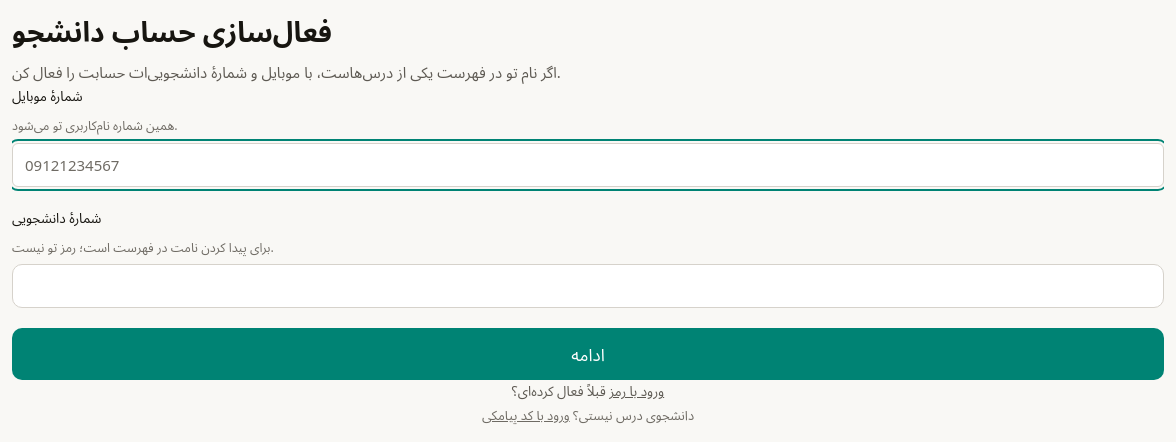
Test: فعال‌سازی حساب دانشجو › بدون ایمیل در فهرست، دکمهٔ تأیید غیرفعال است و به استاد ارجاع می‌دهد
This screenshot has width=1176, height=442.
Type "۰۹۱۲۱۲۳۴۵۶۷" into the field labelled "شمارهٔ موبایل" at (588, 165), box [12, 143, 1164, 187]
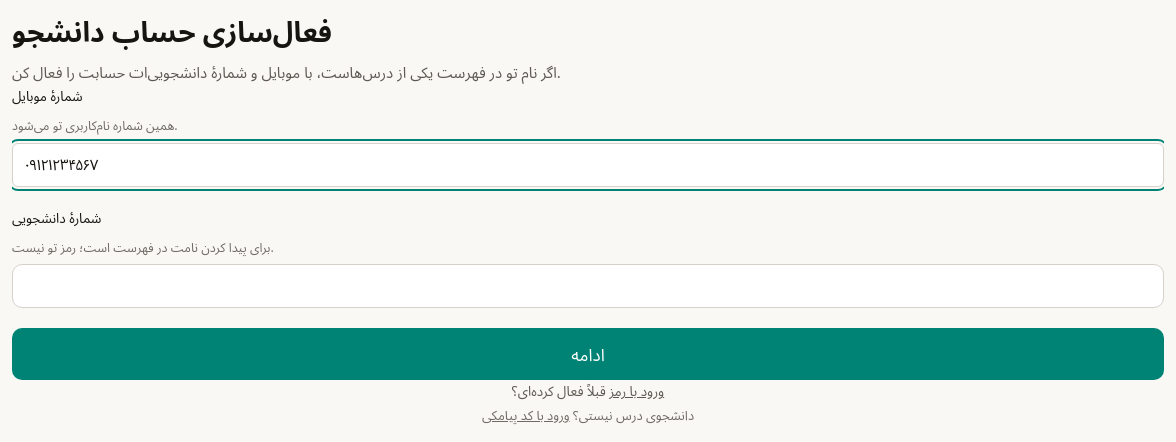
Type "۴۰۲۱۲۳۴۵۶" into the field labelled "شمارهٔ دانشجویی" at (588, 286), box [12, 264, 1164, 308]
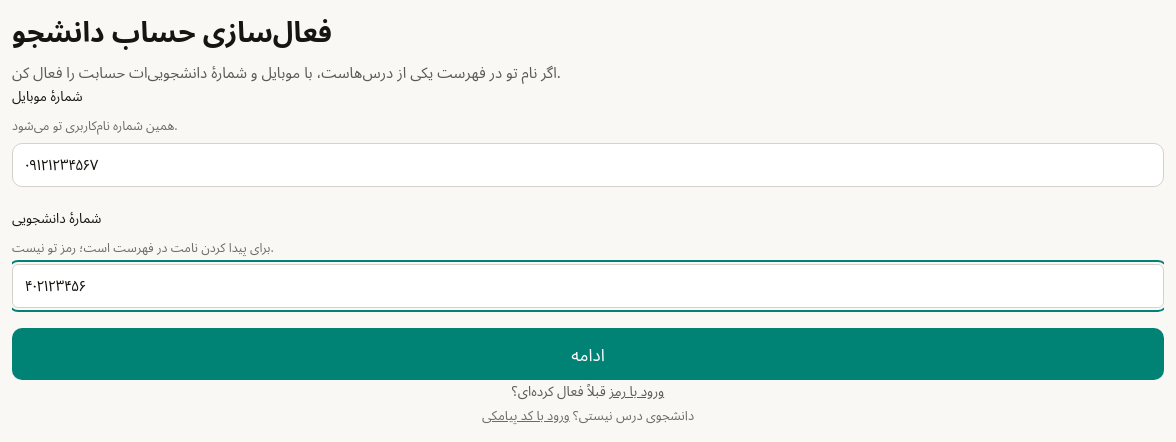
Click the button "ادامه" at (588, 354), box [12, 328, 1164, 380]
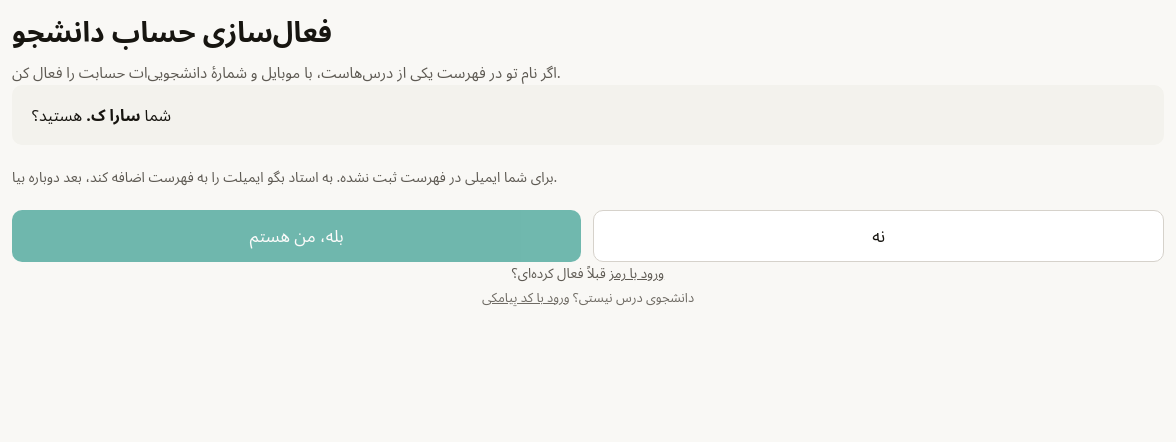
Expected: the button "بله، من هستم" is disabled, [12, 210, 582, 262]
Expected: the text "به استاد بگو" is shown, [12, 167, 557, 186]
